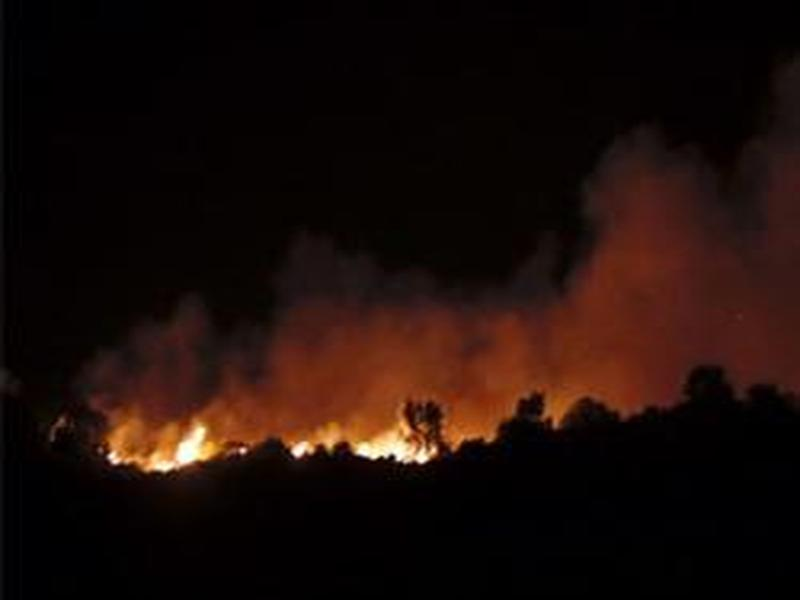FIRE: (54, 394, 586, 516)
